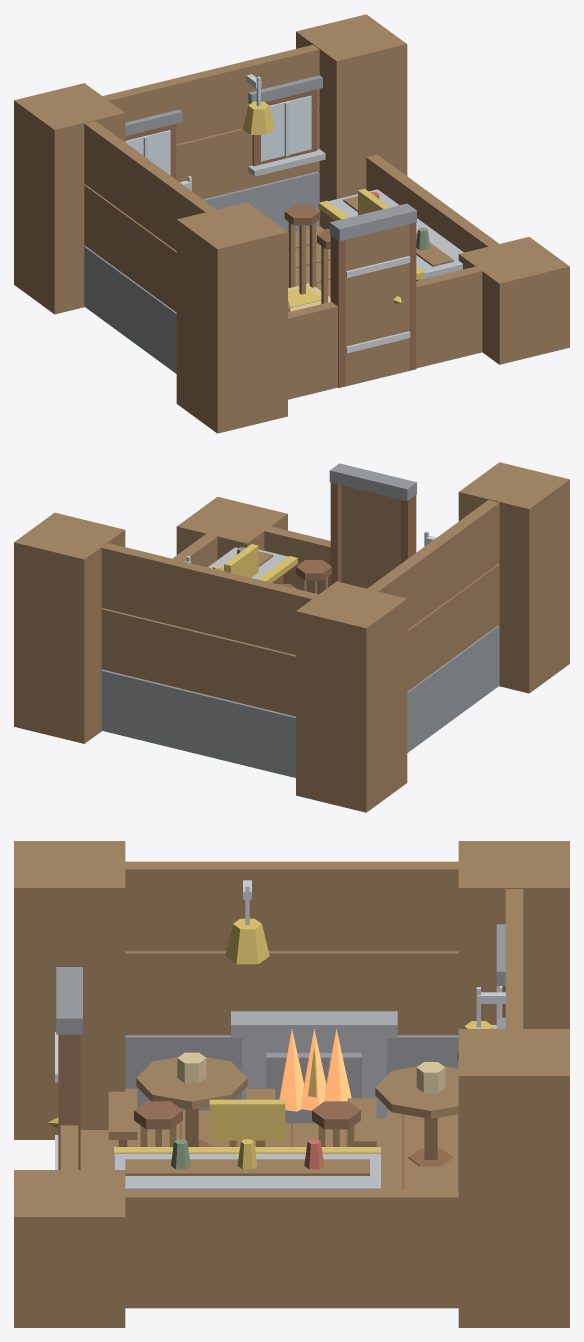
Rendered from tavern_interior.glb.
3 views of the same model, one above another, from view 1: azimuth 30°, elevation 25°; view 2: azimuth 150°, elevation 25°; view 3: azimuth 270°, elevation 25° (orthographic). The views are drawn at different scales.
Parts seen in each view (by area): view 1: floor_slab; view 2: floor_slab; view 3: floor_slab.
Boxes of the visible parts, x1,y1,x2,y2 form: floor_slab: (14, 14, 569, 433); floor_slab: (14, 462, 569, 812); floor_slab: (14, 841, 569, 1327).
Bounding box in the file's own units: 5 × 2.5 × 5.
